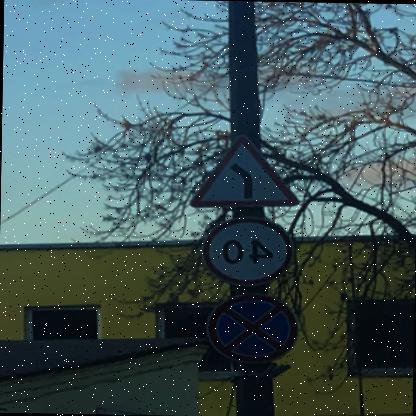speedlimit: (204, 215, 296, 286)
